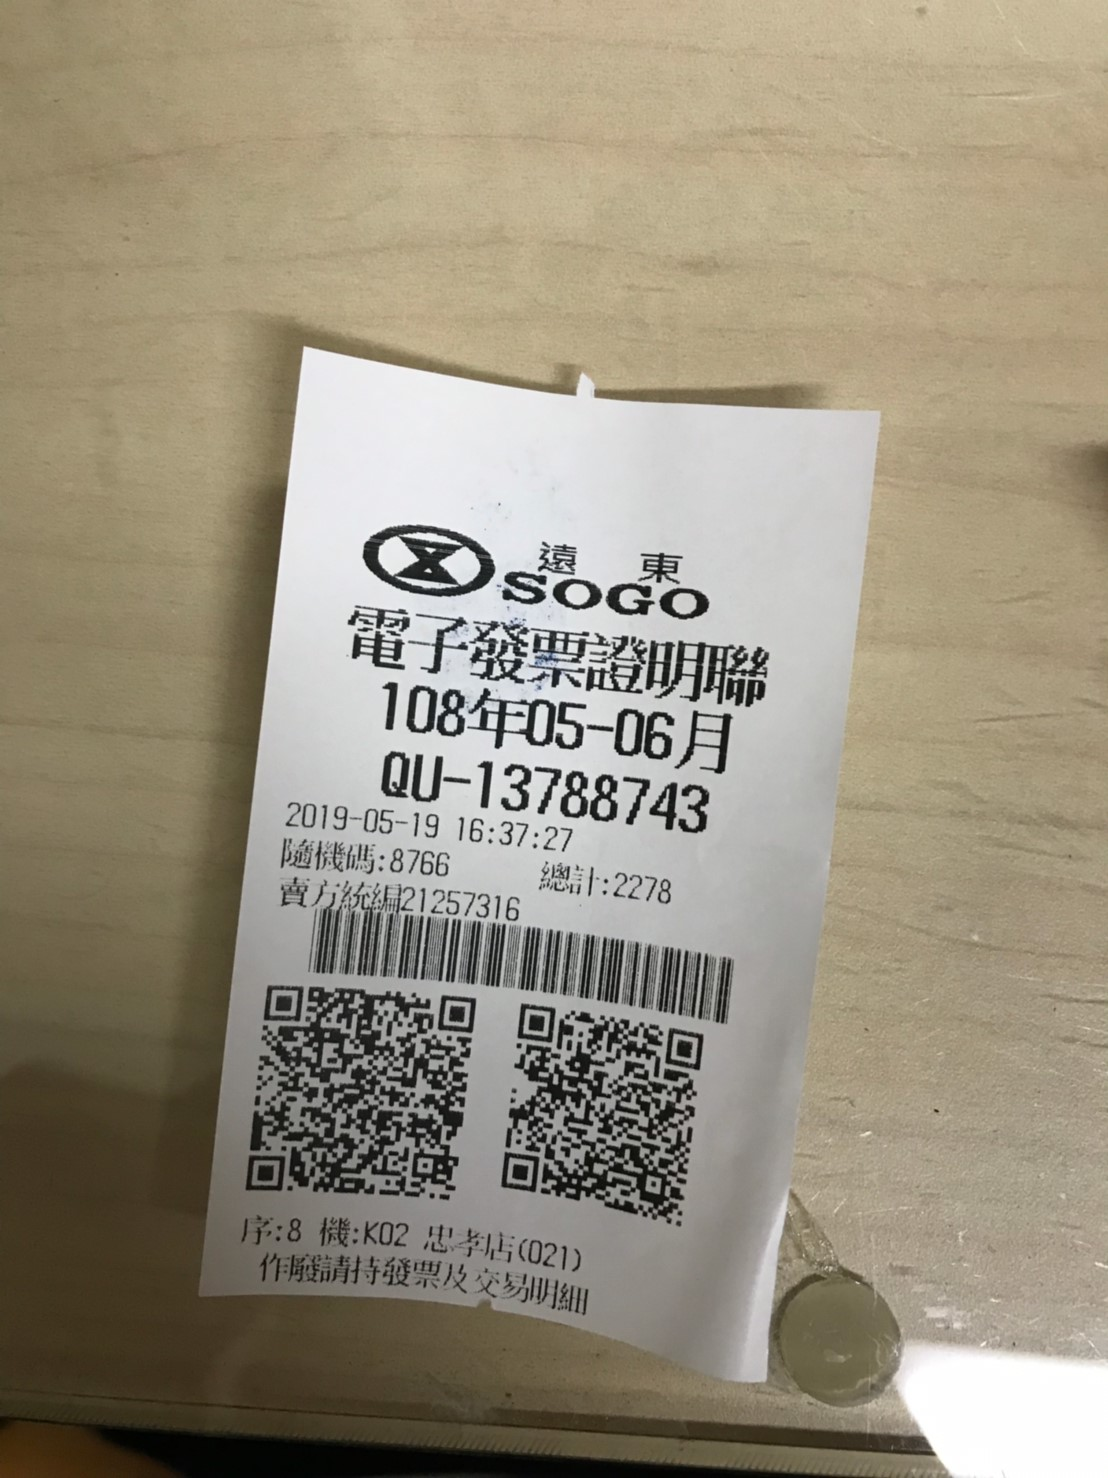Date_New: (376, 678, 737, 770)
Number_New: (475, 760, 719, 841)
